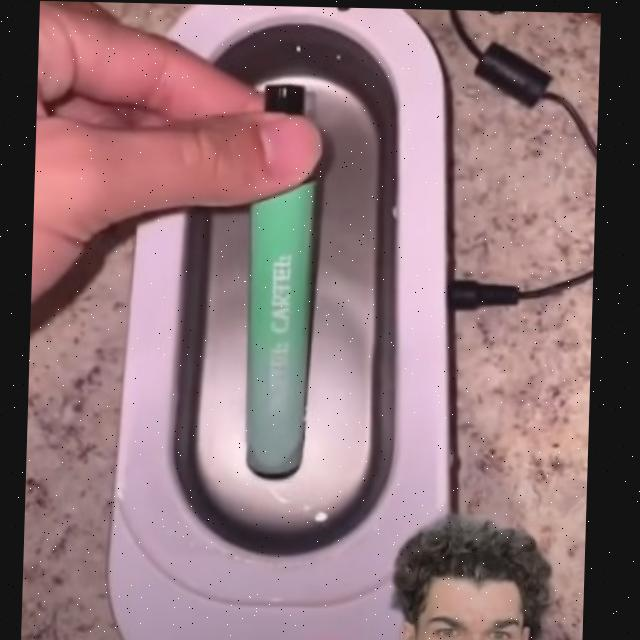vape: (243, 81, 322, 481)
